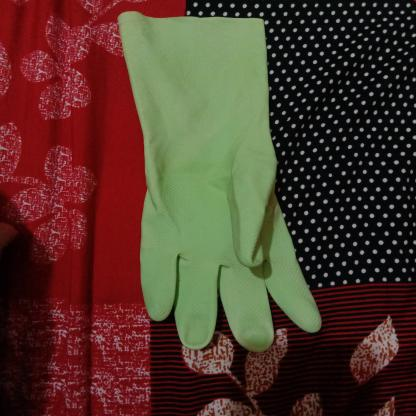gloved_hand: (112, 7, 328, 356)
